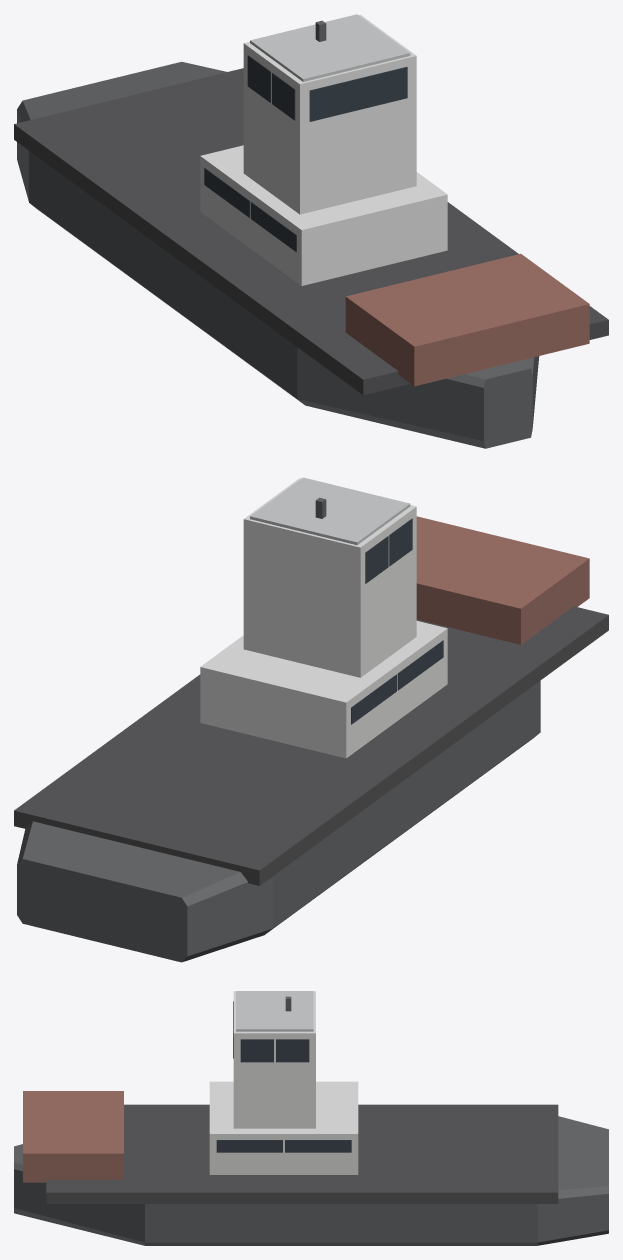
Rendered from vessel-tug.glb.
The picture shows the model from 3 angles, top to bottom: view 1: azimuth 30°, elevation 25°; view 2: azimuth 150°, elevation 25°; view 3: azimuth 270°, elevation 25°; orthographic projection. The views are drawn at different scales.
Parts seen in each view (by area): view 1: vessel-tug; view 2: vessel-tug; view 3: vessel-tug.
Boxes of the visible parts, box(x1,y1,x2,y2) form: vessel-tug: box(14, 14, 608, 448); vessel-tug: box(14, 477, 608, 962); vessel-tug: box(14, 991, 608, 1245).
Size of the model in its own units: 9.08 by 10 by 26.
